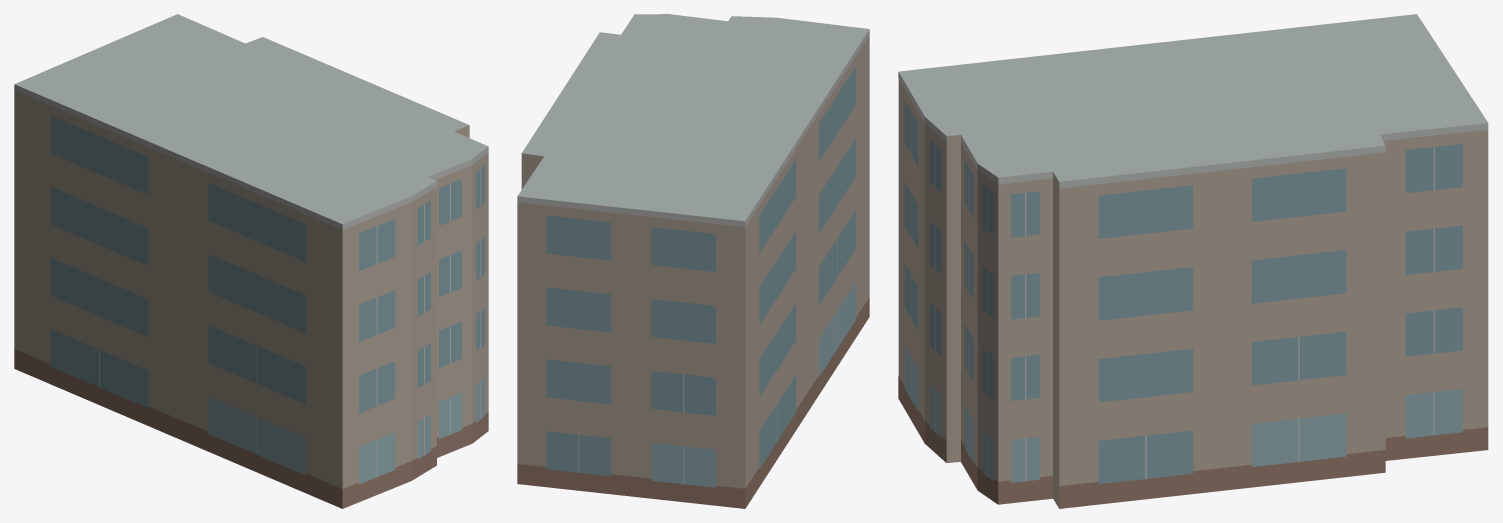
File: survey-upis-32748335.glb
The picture shows the model from 3 angles, left to right: view 1: azimuth 30°, elevation 25°; view 2: azimuth 150°, elevation 25°; view 3: azimuth 270°, elevation 25°; orthographic projection. The views are drawn at different scales.
Visible parts, largest first — view 1: survey-upis-32748335.tmp; view 2: survey-upis-32748335.tmp; view 3: survey-upis-32748335.tmp.
Part boxes in pixels (left/top/right/bottom): survey-upis-32748335.tmp: left=14, top=14, right=488, bottom=508; survey-upis-32748335.tmp: left=517, top=14, right=869, bottom=508; survey-upis-32748335.tmp: left=898, top=14, right=1488, bottom=508.
Size of the model in its own units: 13.01 by 11.8 by 19.31.
